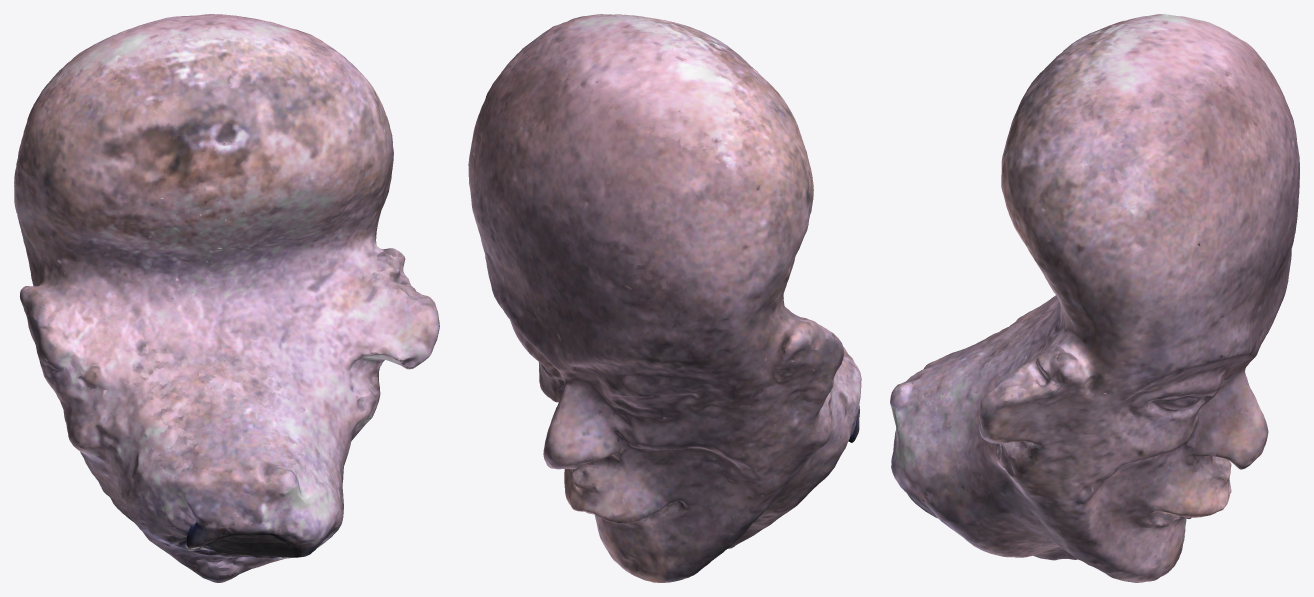
Rendered from Rostro3.fbx.
3 views of the same model, side by side, from view 1: azimuth 30°, elevation 25°; view 2: azimuth 150°, elevation 25°; view 3: azimuth 270°, elevation 25° (orthographic). The views are drawn at different scales.
Parts seen in each view (by area): view 1: rostro2; view 2: rostro2; view 3: rostro2.
Part boxes in pixels (box(x1,y1,x2,y2)): rostro2: box(14, 14, 439, 582); rostro2: box(468, 14, 861, 582); rostro2: box(890, 14, 1299, 582).
Bounding box in the file's own units: 0.6121 × 0.6052 × 0.8791.
1 material, 1 textured.
